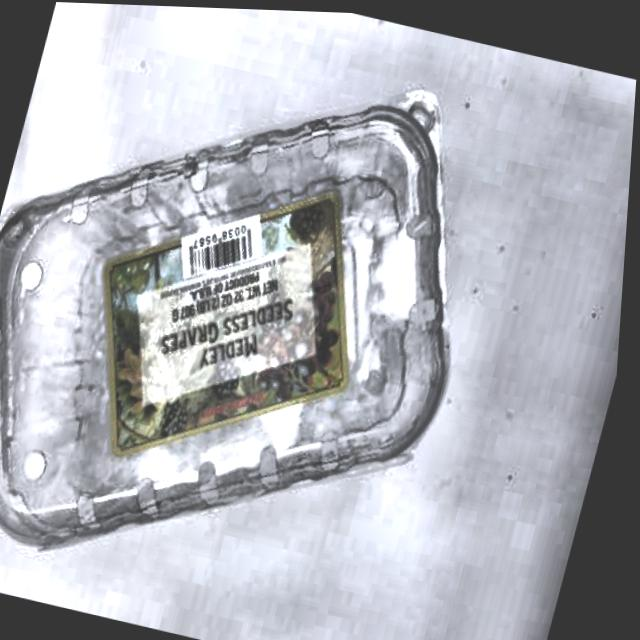Plastic: (0, 3, 557, 640)
